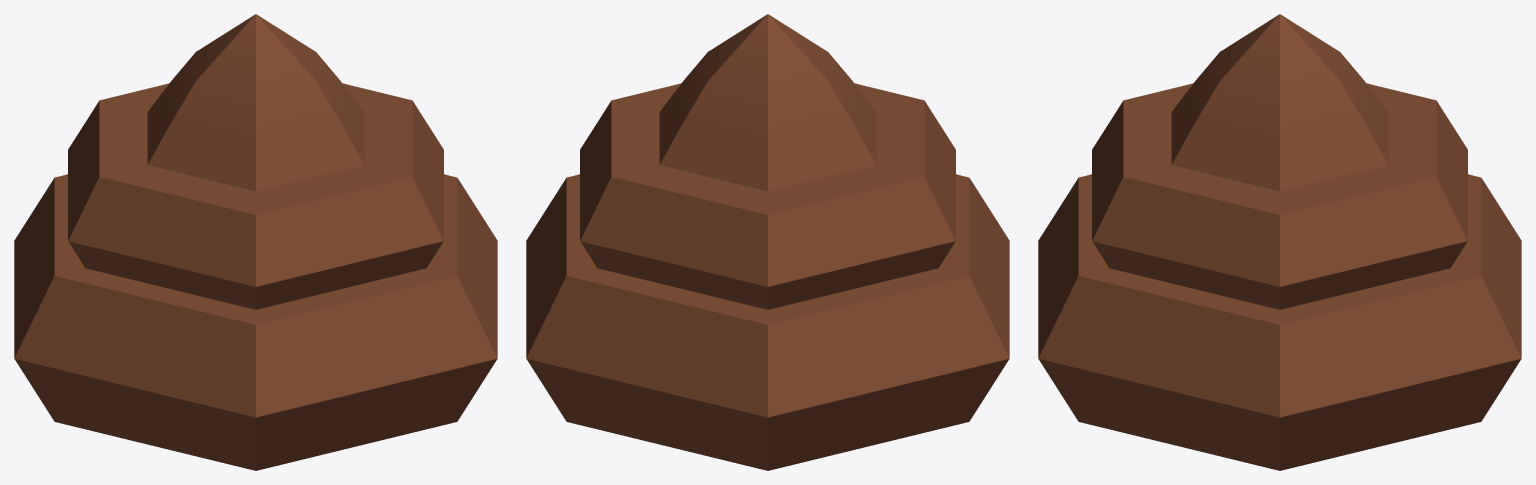
Rendered from O_Interactive_DogPoop.fbx.
3 renders of one model, left to right at view 1: azimuth 30°, elevation 25°; view 2: azimuth 150°, elevation 25°; view 3: azimuth 270°, elevation 25°, orthographic.
Parts seen in each view (by area): view 1: pCone2; view 2: pCone2; view 3: pCone2.
Boxes of the visible parts, x1,y1,x2,y2 form: pCone2: (14, 14, 497, 470); pCone2: (526, 14, 1009, 470); pCone2: (1038, 14, 1521, 470).
Bounding box in the file's own units: 3.38 × 2.4 × 2.93.
